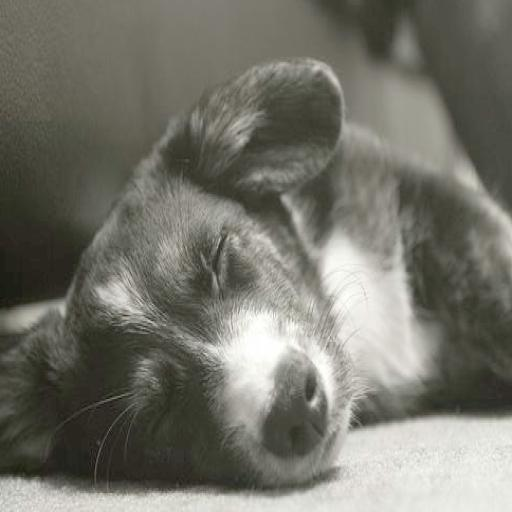dog_face: (23, 88, 343, 491)
